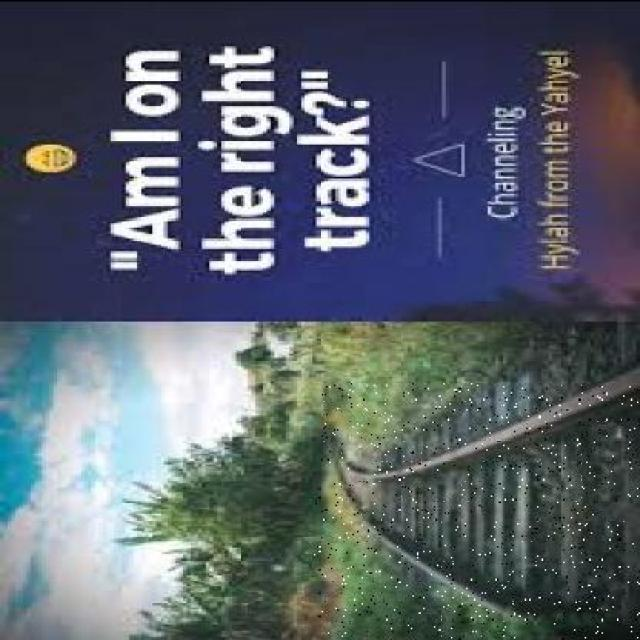rail: (314, 381, 640, 640)
